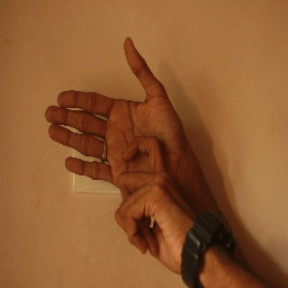R: (46, 29, 189, 249)
